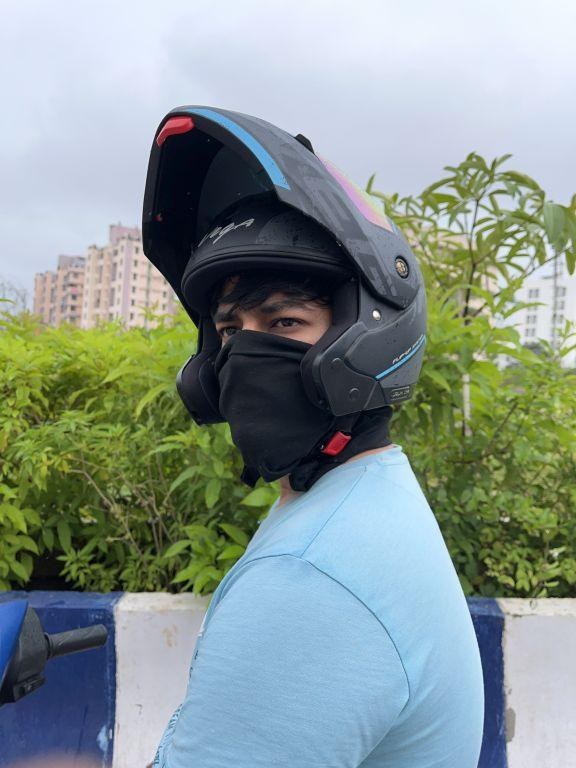helmet: (132, 87, 444, 477)
